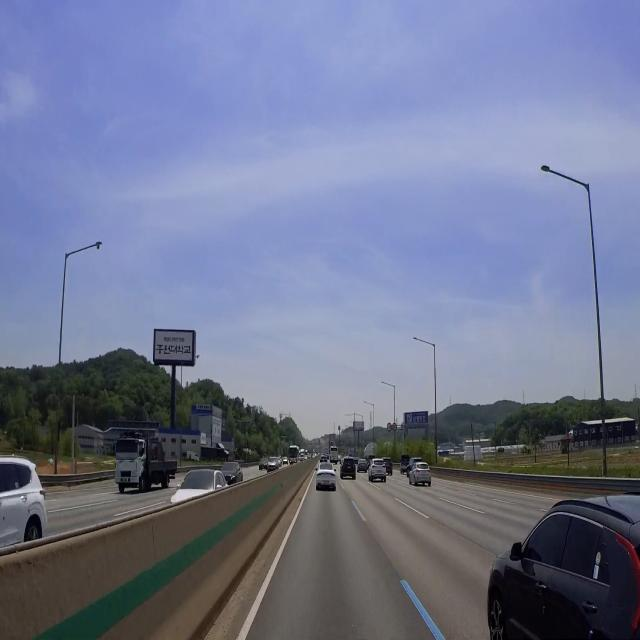car: (321, 477, 331, 492), (119, 474, 130, 487), (345, 463, 353, 473), (376, 468, 383, 474), (420, 476, 428, 481)
